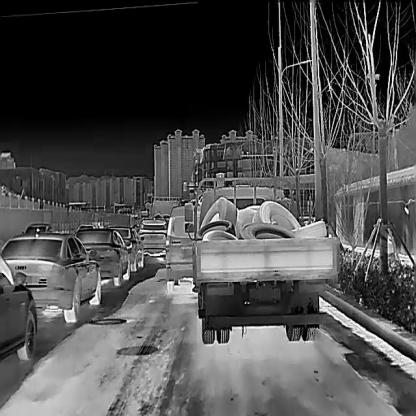car: (0, 228, 102, 324), (0, 248, 38, 360), (72, 226, 131, 285), (164, 200, 198, 292), (108, 223, 145, 272), (137, 215, 169, 257), (20, 220, 53, 236), (73, 221, 99, 234)
truck: (182, 172, 340, 344)
